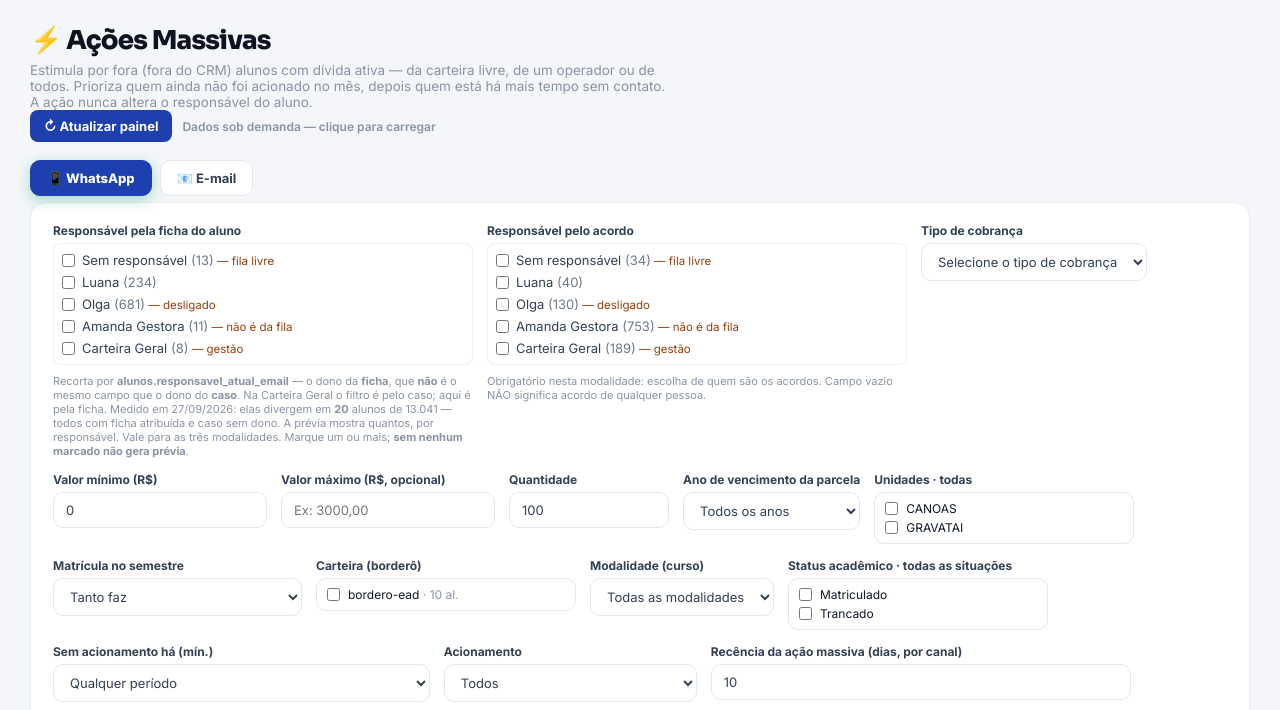
Test case: Ações Massivas — liquidados no Prime › a exportação conta quantos saíram por já constarem liquidados
Expected: the checkbox labelled "Matriculado" is shown, x1=799 y1=588 x2=812 y2=601
Expected: the element with test id "resp-caso" is shown, x1=53 y1=243 x2=473 y2=365
Click the checkbox with id "resp-caso-SEM_RESPONSAVEL" at (68, 260), box x1=62 y1=254 x2=75 y2=266
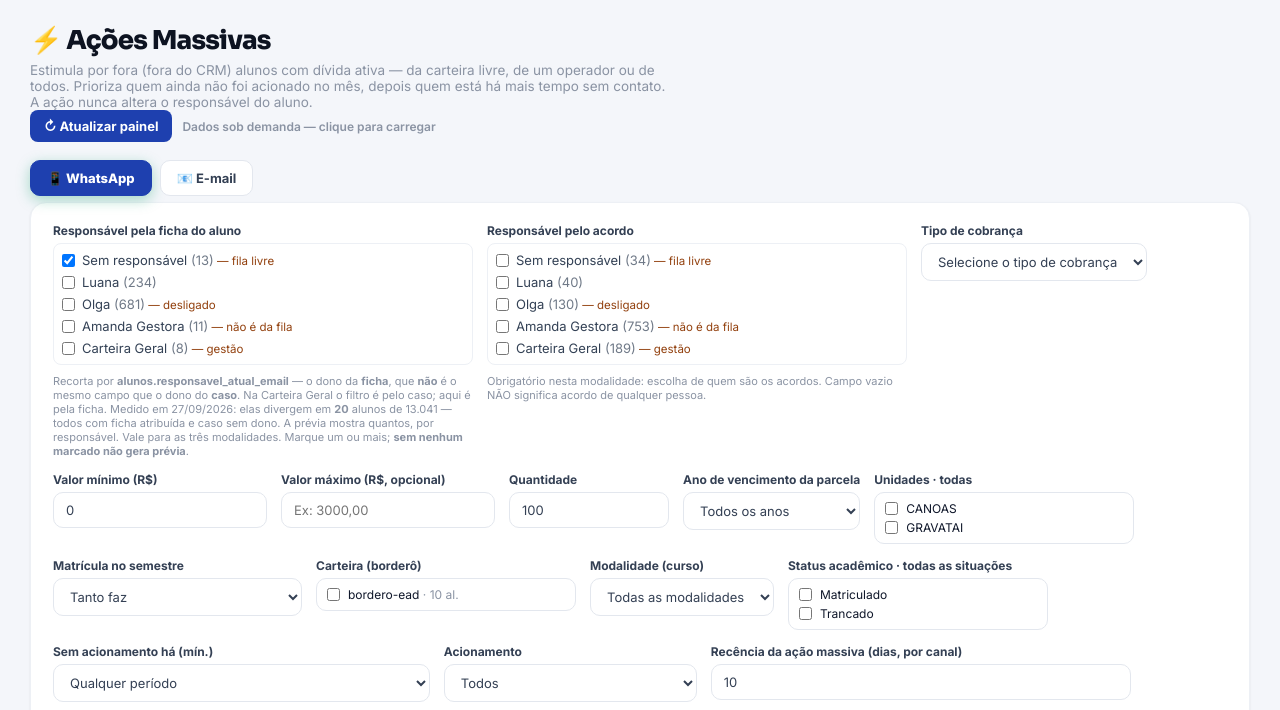
Select "Somente mensalidades" in the dropdown labelled "Tipo de cobrança" at (1034, 262), box x1=921 y1=243 x2=1147 y2=281
(page scrolled)
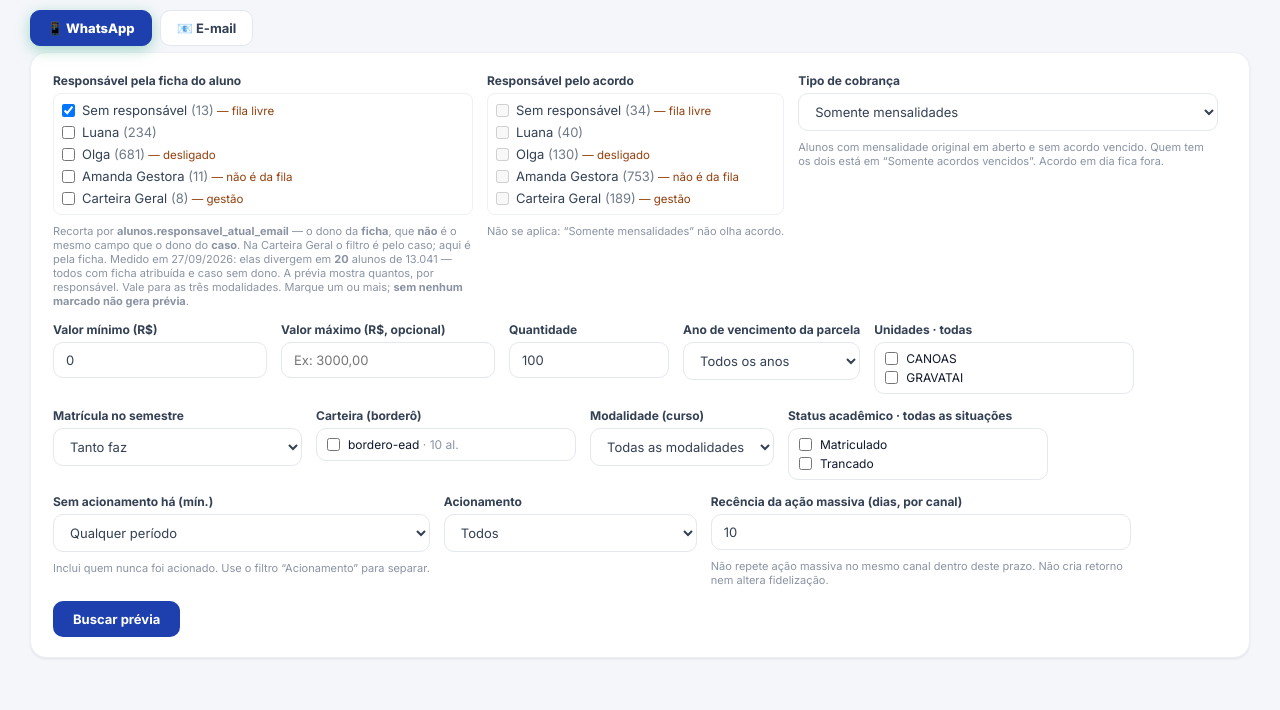
Click the button "Buscar prévia" at (117, 619), box x1=53 y1=601 x2=180 y2=637
(page scrolled)
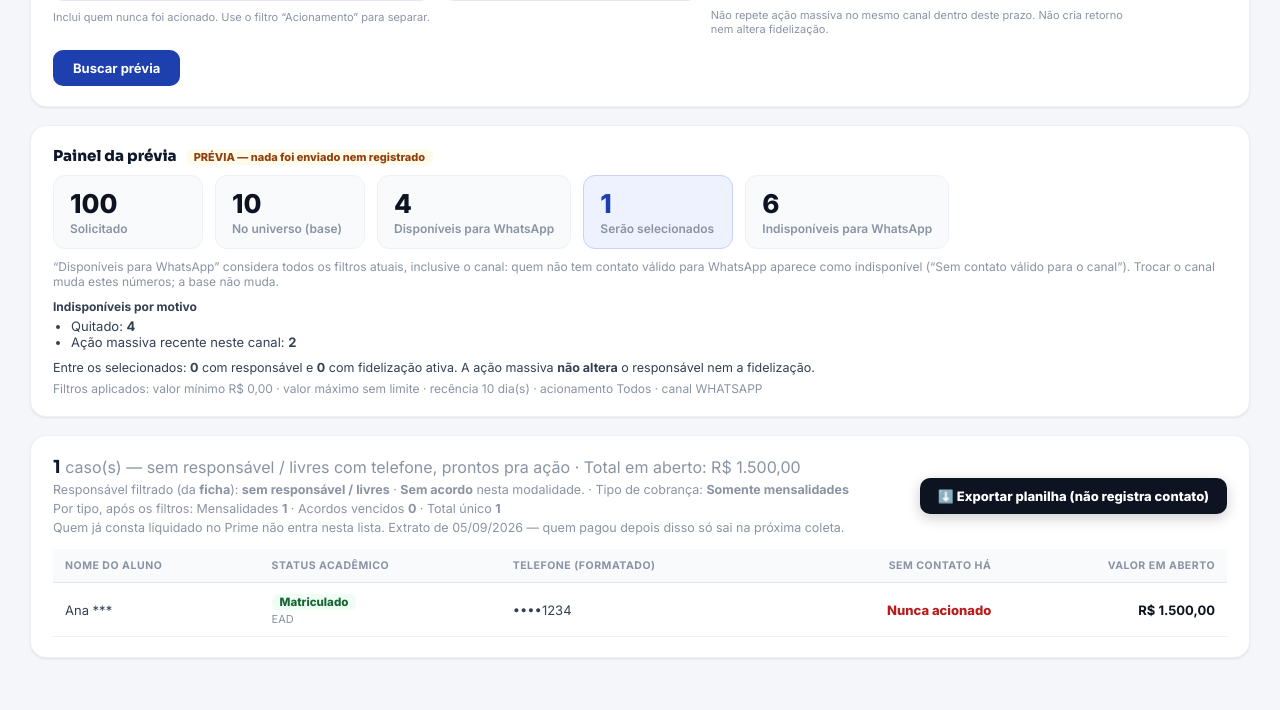
Click the button "⬇️ Exportar planilha (não registra contato)" at (1073, 496), box x1=920 y1=478 x2=1227 y2=514
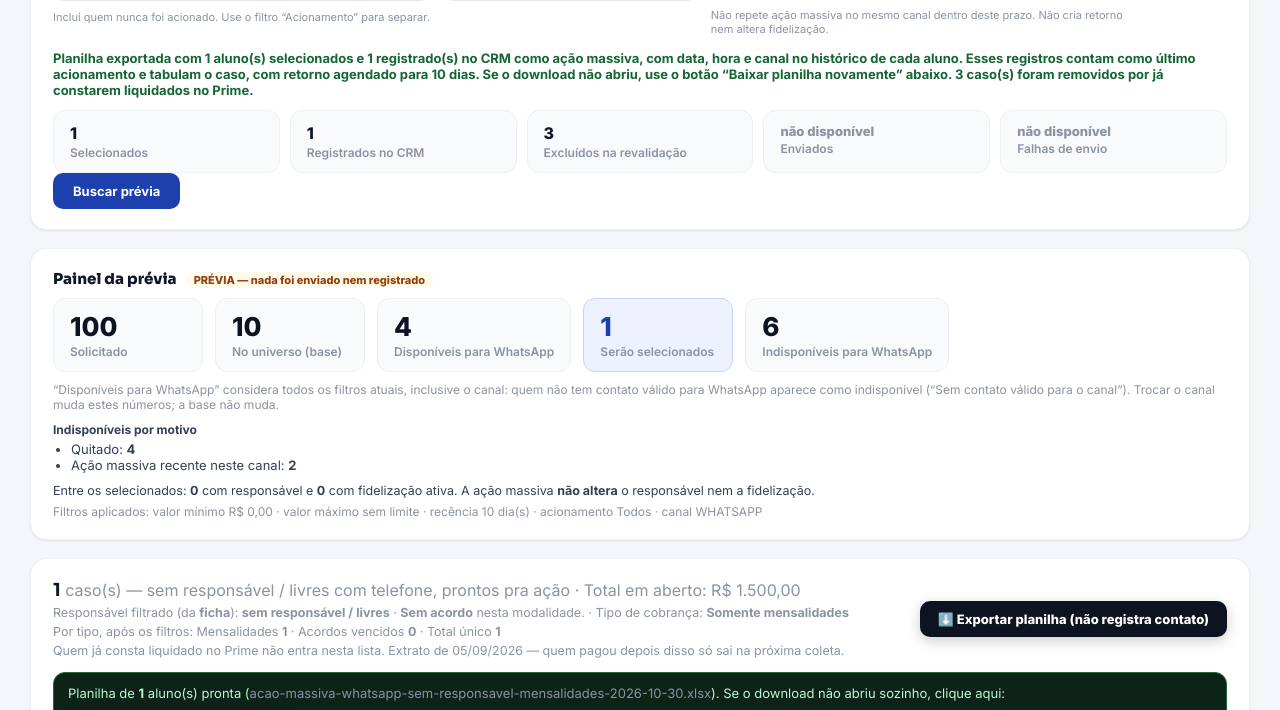
Result: the text "3 caso(s) foram removidos por já constarem liquidados no Prime" is shown at x1=53 y1=50 x2=1196 y2=98
